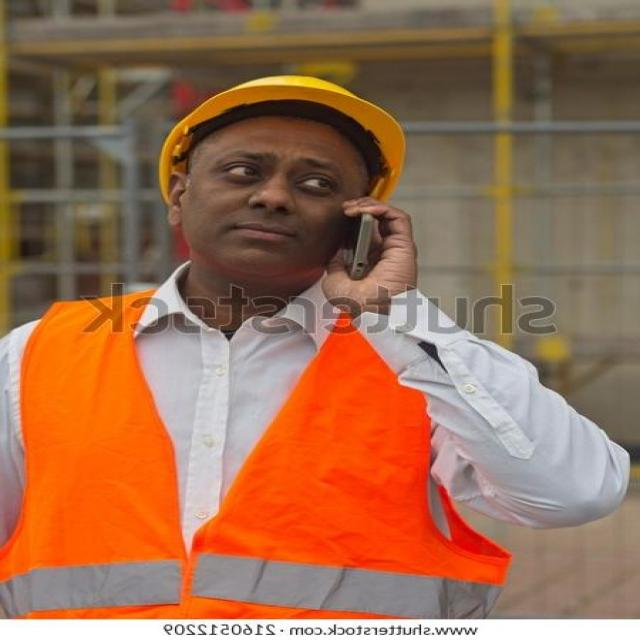Reflective-Jacket: (0, 270, 519, 620)
Safety-Helmet: (148, 69, 418, 189)
